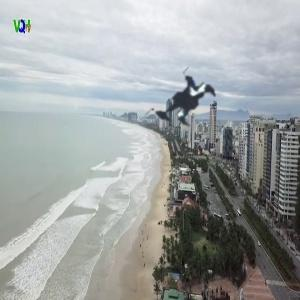drone: (125, 40, 248, 163)
